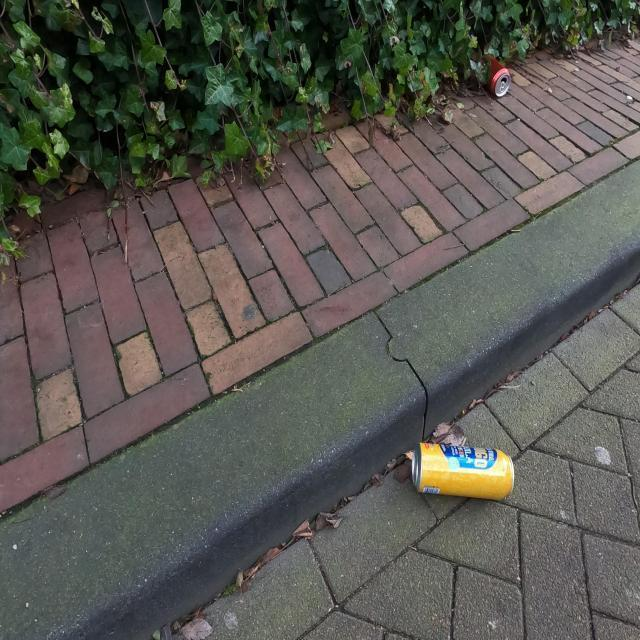Can-Metal: (411, 441, 515, 503), (480, 52, 512, 98)
